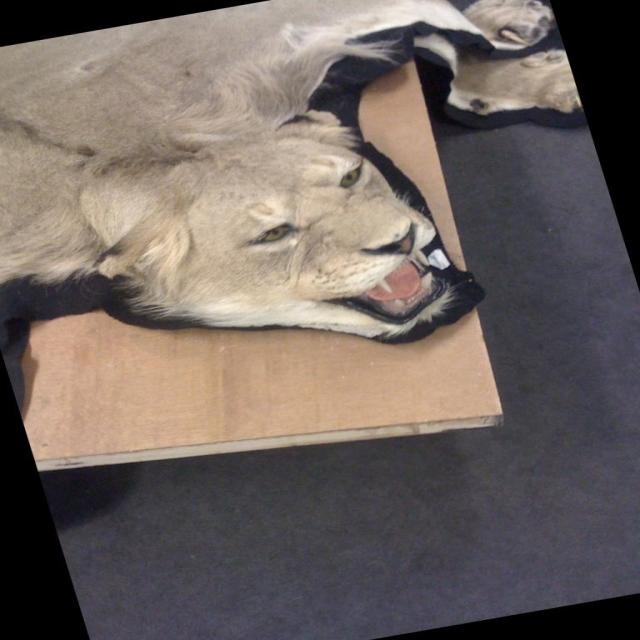Lion: (0, 0, 639, 408)
